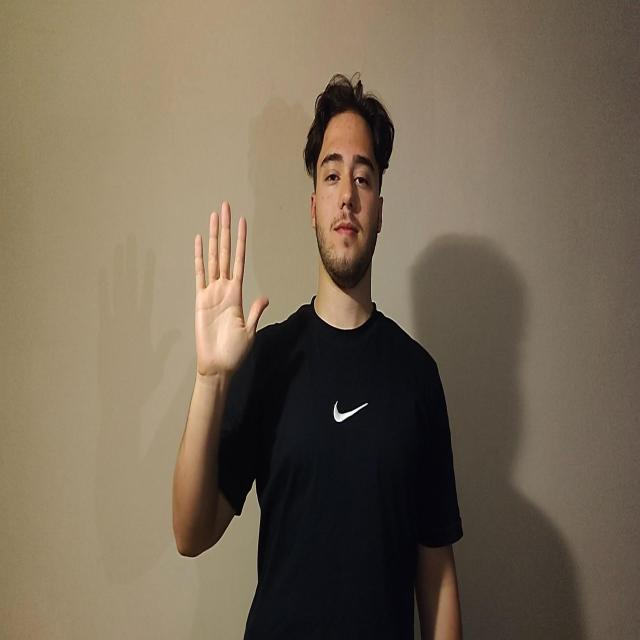hello: (193, 200, 269, 378)
